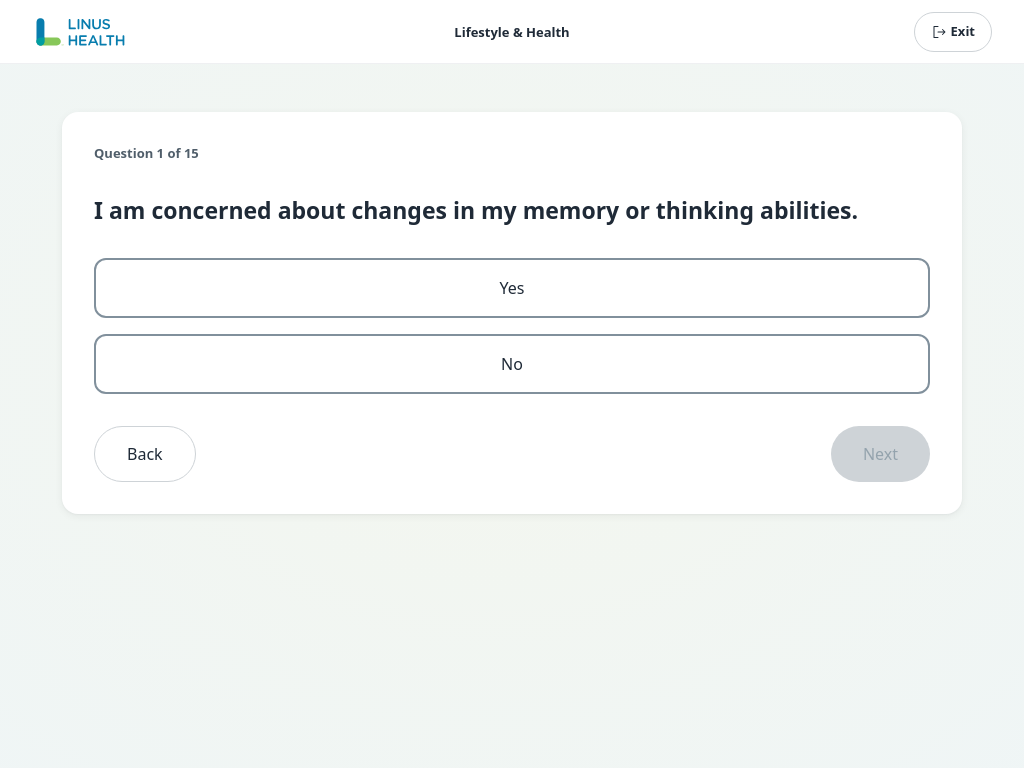
Scenario: LifestyleQuestionsPage › enables Next once an option is selected, and advances to the next question
Click the radio button labelled "Yes".
click(512, 288)  # box [94,258,930,318]
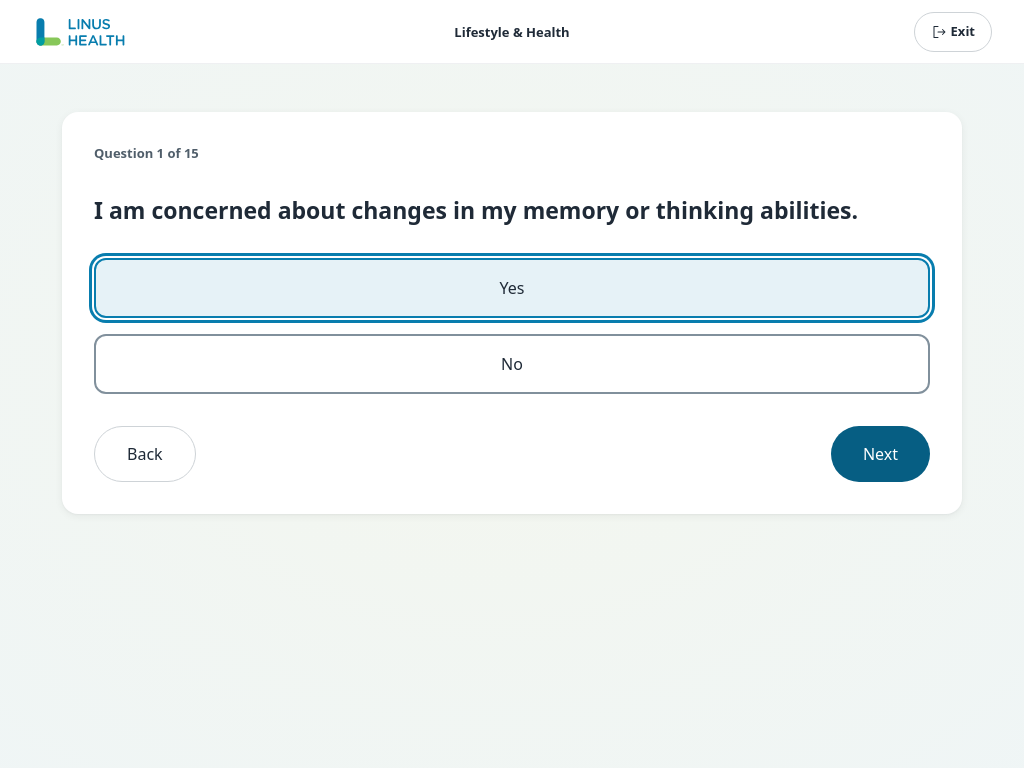
Expected: the button "Next" is enabled
Click the button "Next".
click(880, 454)  # box [831,426,930,482]
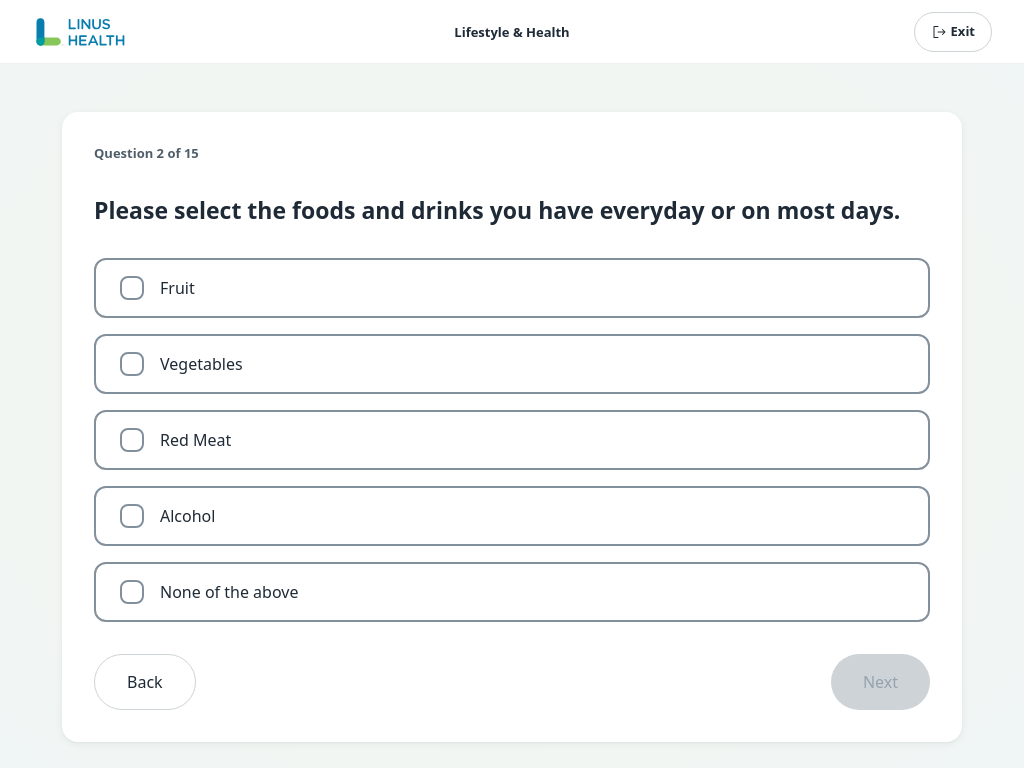
Expected: the text "Question 2 of 15" is shown, [94,144,199,162]
Expected: the text "Please select the foods and drinks you have everyday or on most days." is shown, [94,194,930,226]
